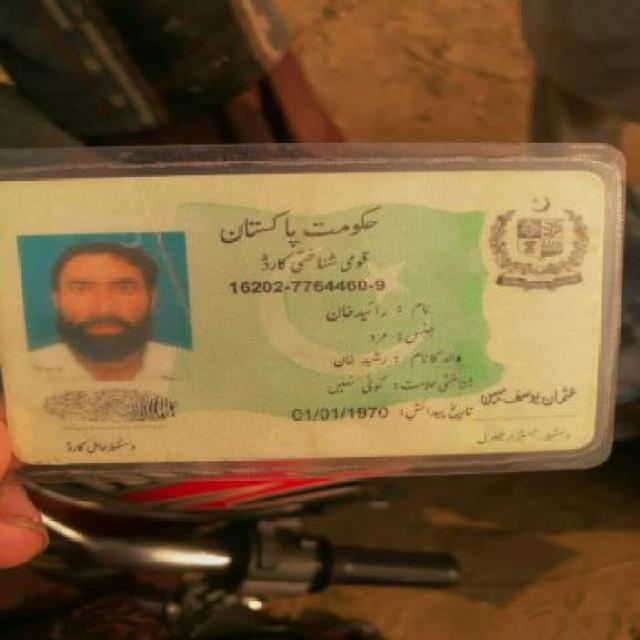Front: (3, 165, 609, 457)
